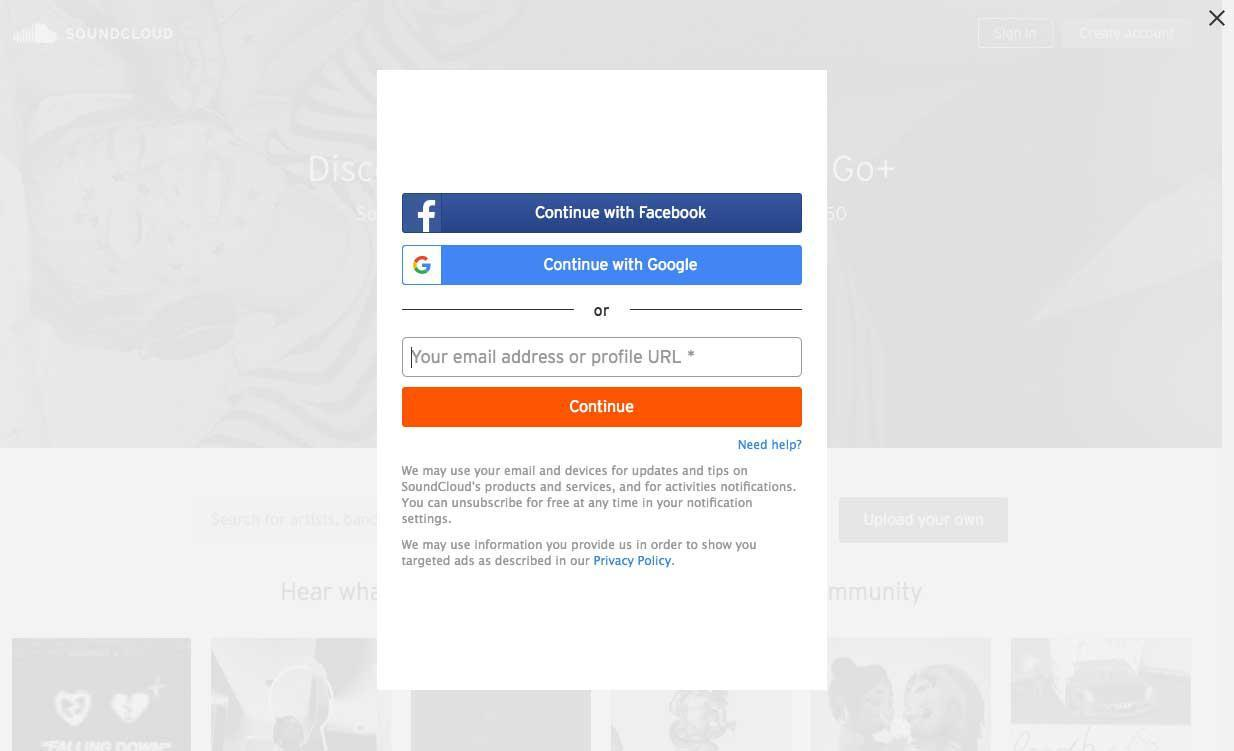button: (397, 192, 806, 237), (398, 385, 806, 430), (399, 245, 804, 288)
icon: (1208, 9, 1228, 30)
input: (402, 339, 803, 376)
